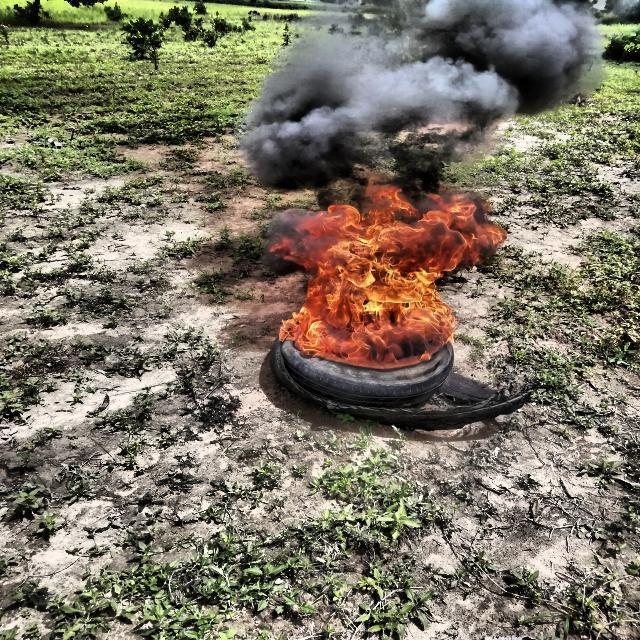Fire: (270, 188, 505, 372)
Smoke: (243, 0, 601, 184)
